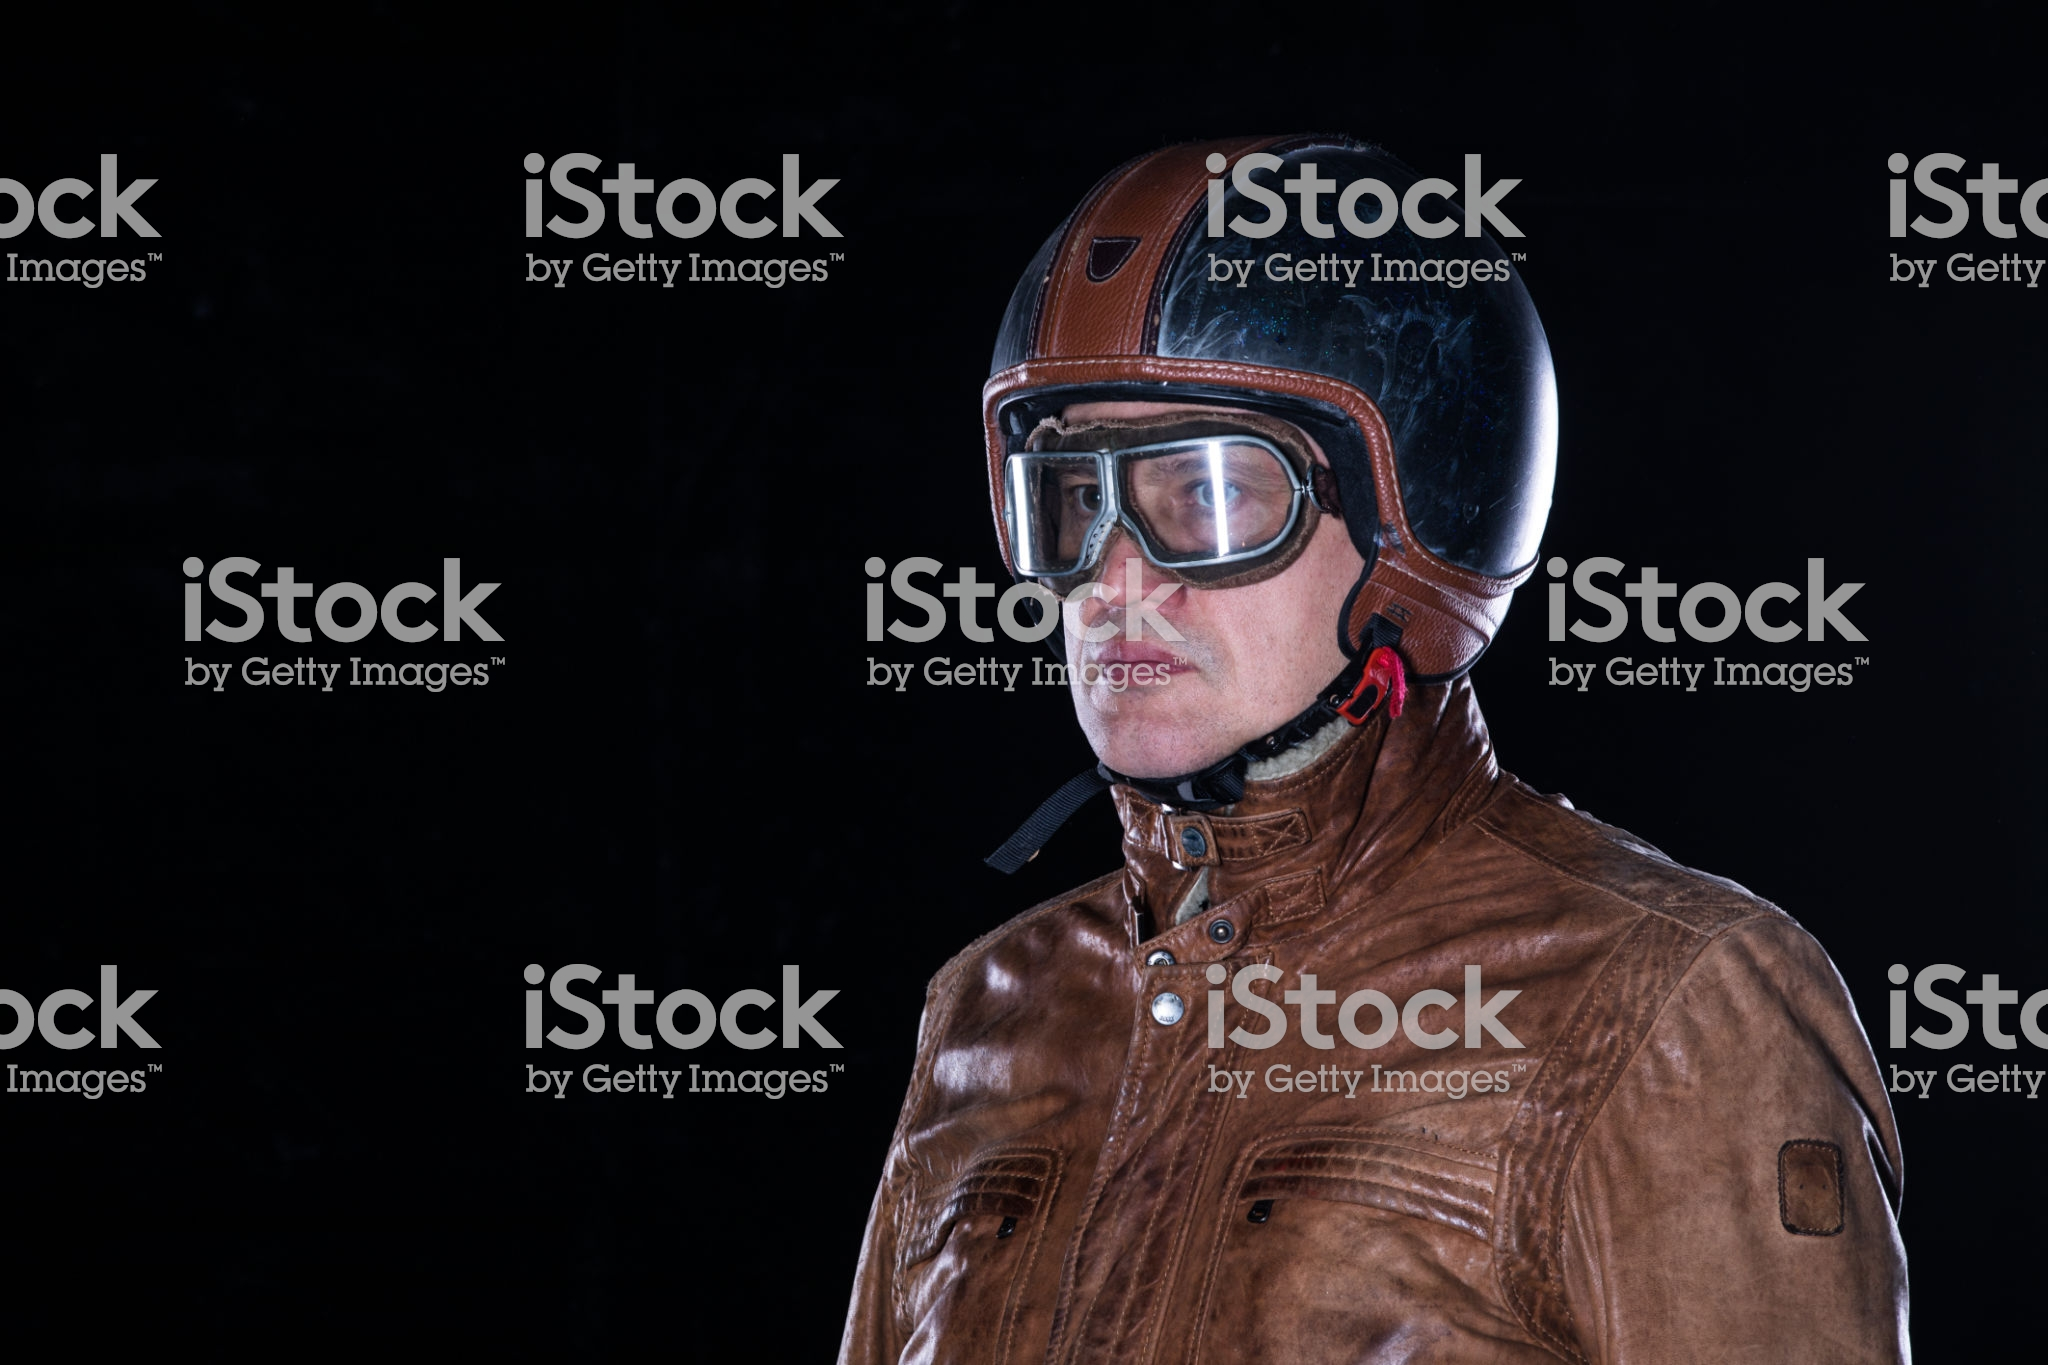helmet: (967, 149, 1549, 673)
